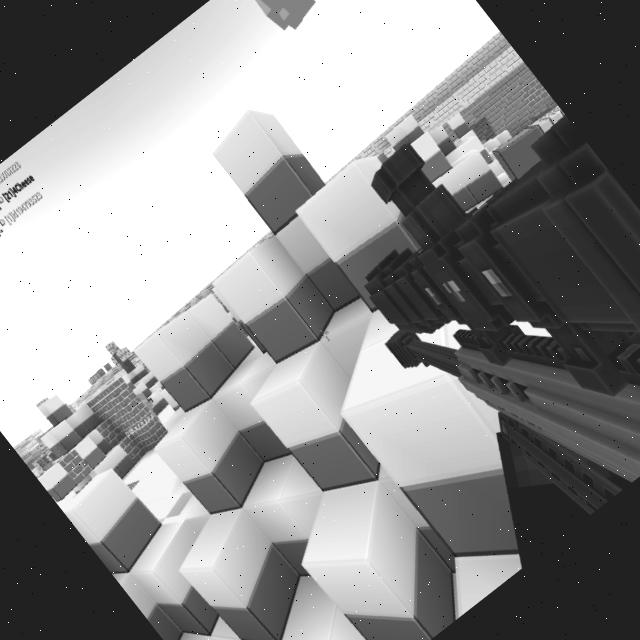Head: (136, 390, 150, 406)
Player: (134, 386, 168, 426)
